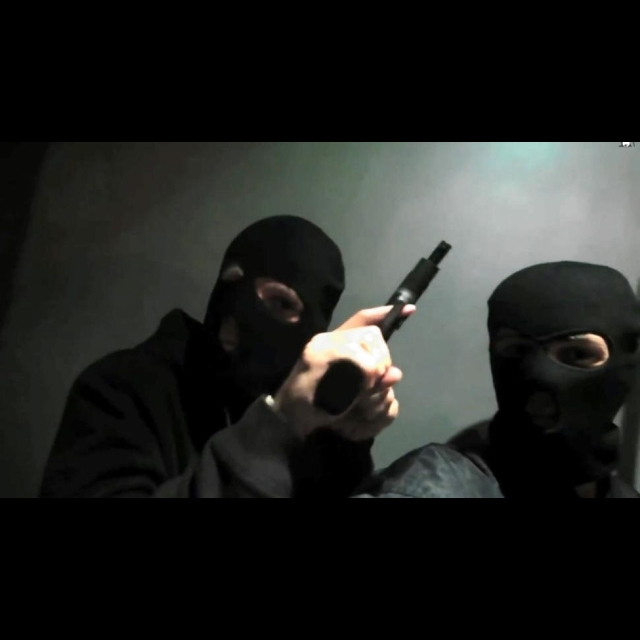SILAH: (311, 235, 456, 418)
